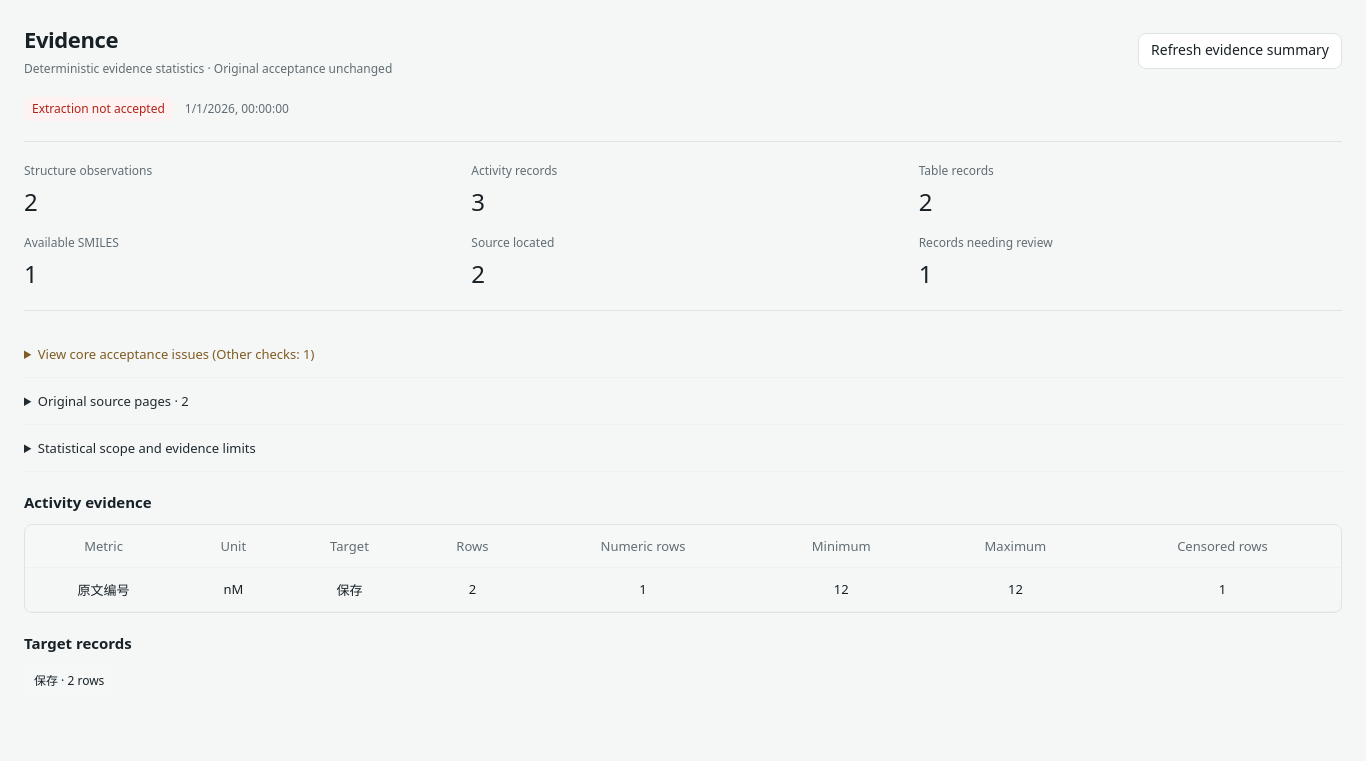
Test: English workbench view and live language continuity › localizes evidence statistics and controls without translating raw QA findings, target names or limitations
The width and height of the screenshot is (1366, 761).
Expected: the text "Structure observations" is shown, [24,162,152,179]
Expected: the text "保存 · 2 rows" is shown, [24,665,114,695]
Step 1. Click the heading "View core acceptance issues (Other checks: 1)" → [169, 354], box [24,343,314,365]
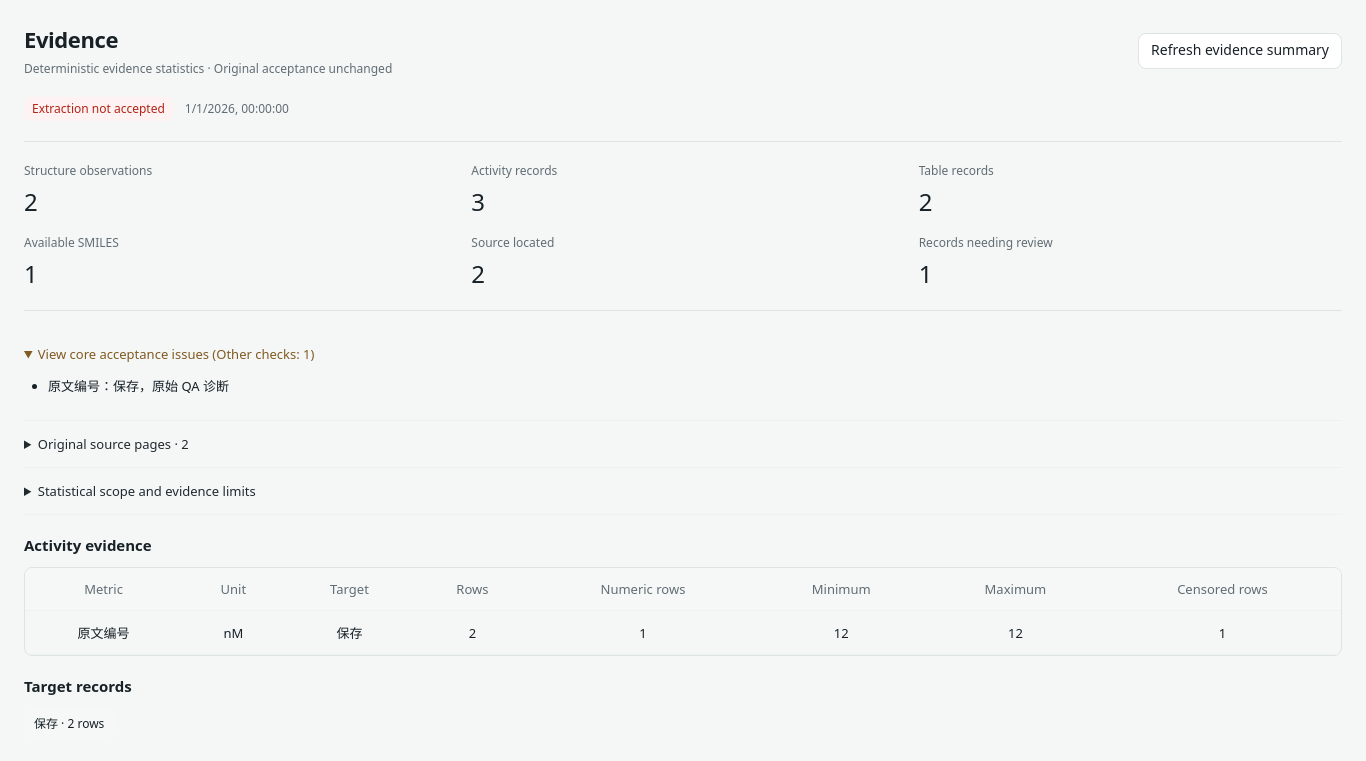
Now the text "原文编号：保存，原始 QA 诊断" is shown, box [48,377,229,395]
Step 2. Click the heading "Statistical scope and evidence limits" → [140, 491], box [24,480,256,502]
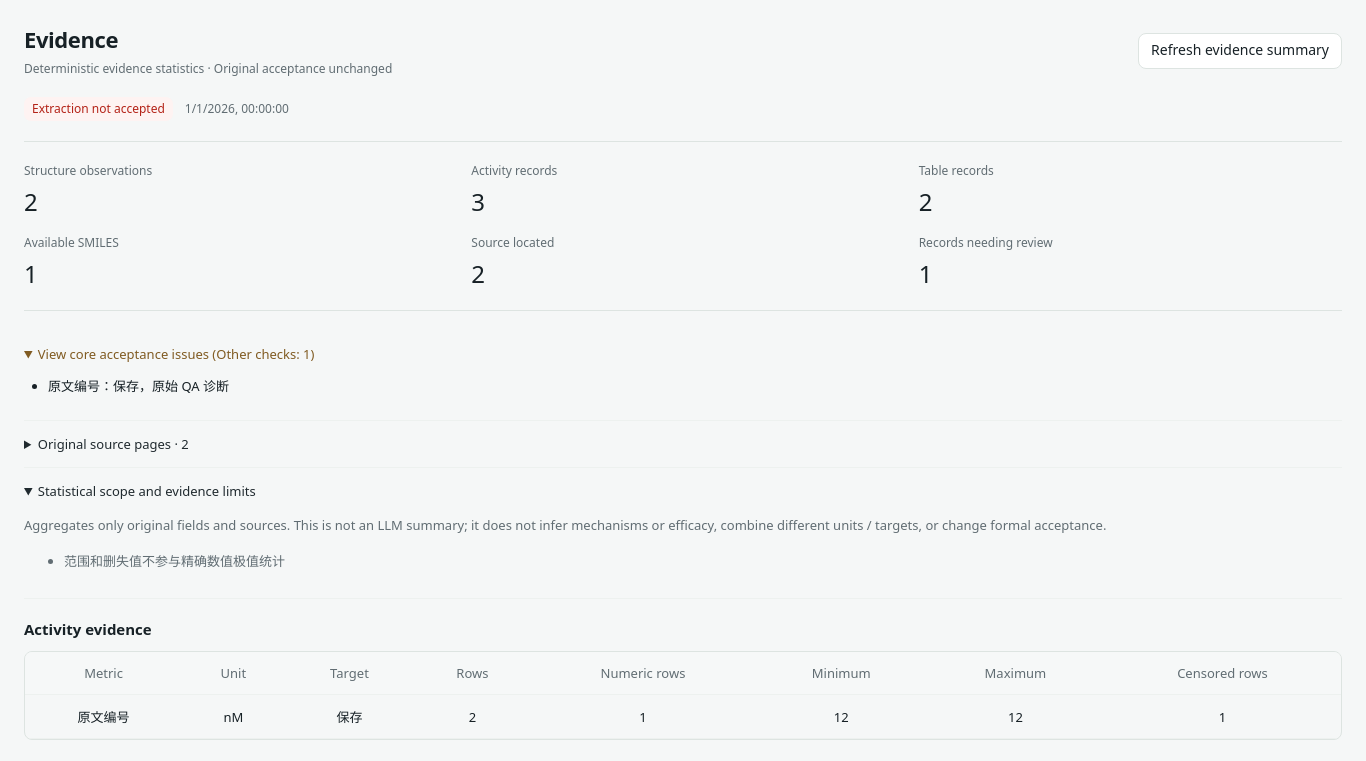
Now the text "原文编号：保存，原始 QA 诊断" is shown, box [48,377,229,395]
Now the list item "范围和删失值不参与精确数值极值统计" is shown, box [64,552,285,570]
